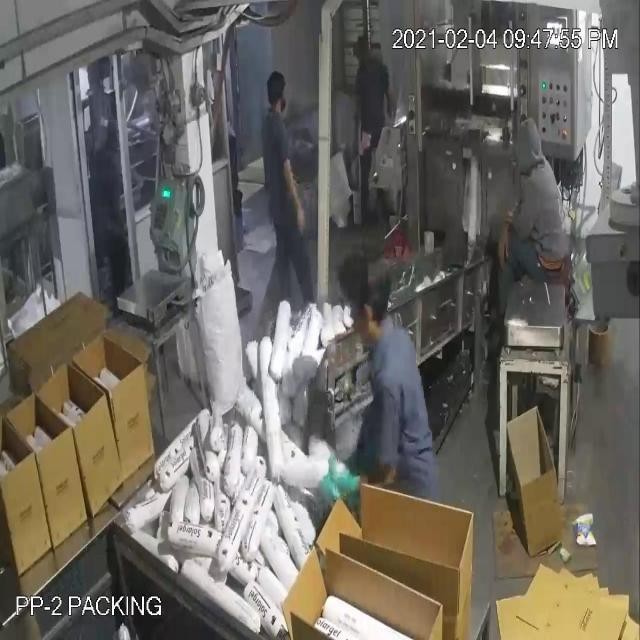No_Gloves: (22, 65, 507, 482)
